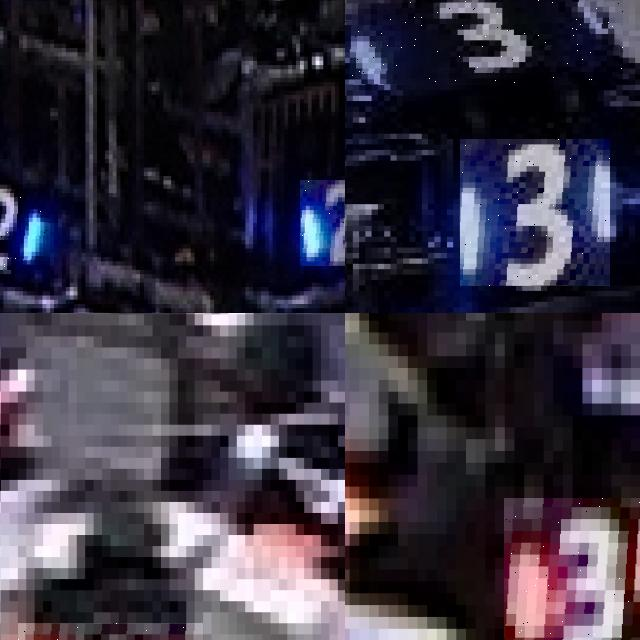B2: (0, 180, 50, 269), (300, 180, 345, 265)
B3: (345, 0, 622, 84), (460, 139, 610, 286)
R3: (504, 498, 640, 640)
